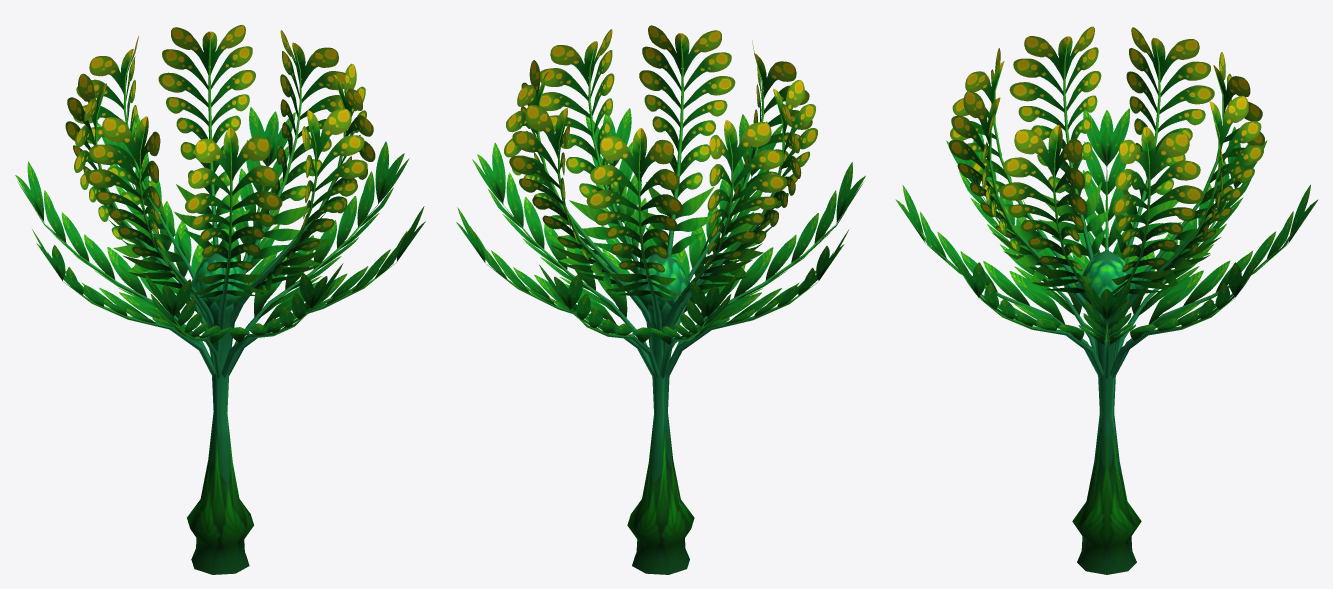
File: Green_Tree_06a.FBX
3 views of the same model, side by side, from view 1: azimuth 30°, elevation 25°; view 2: azimuth 150°, elevation 25°; view 3: azimuth 270°, elevation 25° (orthographic).
Visible parts, largest first — view 1: %Green_Tree_06a; view 2: %Green_Tree_06a; view 3: %Green_Tree_06a.
Boxes of the visible parts, x1,y1,x2,y2 form: %Green_Tree_06a: (15, 25, 425, 574); %Green_Tree_06a: (456, 25, 865, 574); %Green_Tree_06a: (895, 26, 1318, 574).
Bounding box in the file's own units: 346 × 436 × 346.
